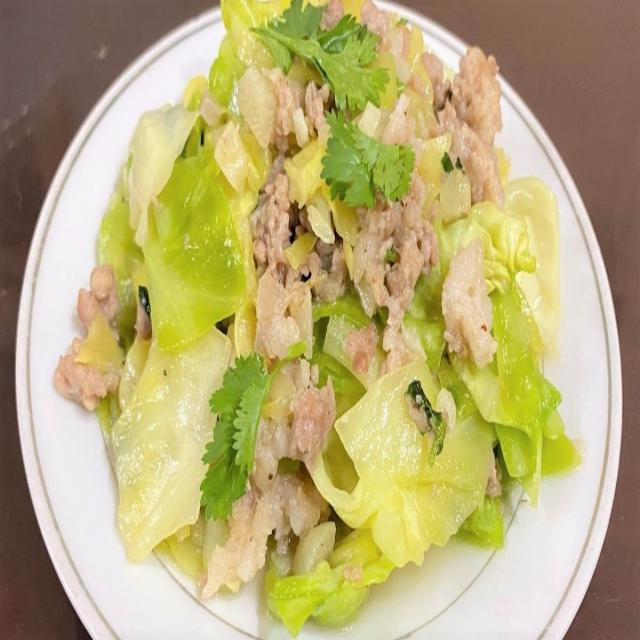bap cai xao: (54, 0, 582, 634)
